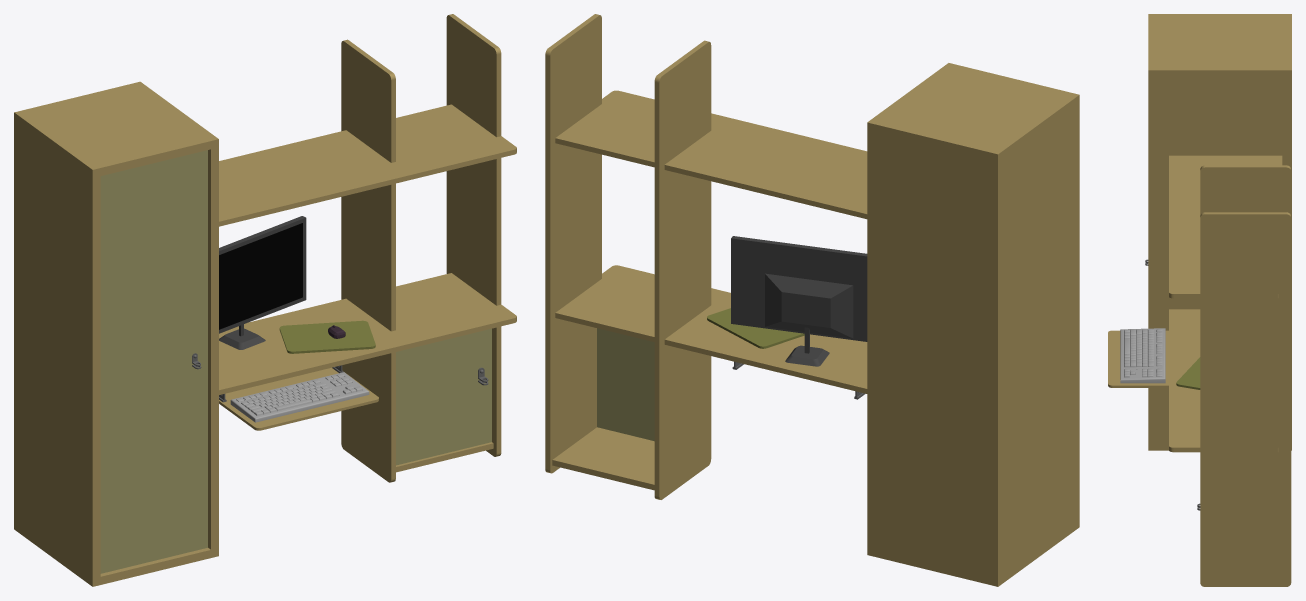
Rendered from desk.fbx.
3 renders of one model, left to right at view 1: azimuth 30°, elevation 25°; view 2: azimuth 150°, elevation 25°; view 3: azimuth 270°, elevation 25°, orthographic. The views are drawn at different scales.
Parts seen in each view (by area): view 1: 柜子, 桌面.002, 桌面.001, 桌面.003, 桌面, 平面, 电脑屏幕, 键盘, 鼠标垫, 键盘板, 立方体; view 2: 柜子, 桌面.002, 桌面.003, 桌面.001, 电脑屏幕, 桌面, 平面, 立方体, 鼠标垫; view 3: 桌面.003, 柜子, 桌面.001, 桌面, 桌面.002, 键盘, 键盘板, 鼠标垫.
Part boxes in pixels (x1,y1,x2,y2): 柜子: (14, 81, 218, 586); 桌面.002: (341, 39, 395, 482); 桌面.001: (219, 104, 516, 226); 桌面.003: (446, 14, 501, 456); 桌面: (219, 273, 516, 394); 平面: (396, 328, 491, 465); 电脑屏幕: (219, 216, 306, 349); 键盘: (230, 372, 369, 422); 鼠标垫: (279, 320, 375, 353); 键盘板: (219, 367, 378, 430); 立方体: (396, 442, 493, 472); 柜子: (867, 63, 1079, 586); 桌面.002: (654, 40, 711, 499); 桌面.003: (545, 14, 601, 473); 桌面.001: (555, 90, 867, 219); 电脑屏幕: (731, 236, 867, 366); 桌面: (555, 265, 867, 393); 平面: (597, 328, 654, 441); 立方体: (552, 427, 654, 490); 鼠标垫: (707, 308, 804, 348); 桌面.003: (1200, 212, 1291, 586); 柜子: (1148, 14, 1291, 450); 桌面.001: (1169, 155, 1282, 298); 桌面: (1169, 309, 1278, 452); 桌面.002: (1200, 165, 1291, 215); 键盘: (1120, 328, 1165, 383); 键盘板: (1108, 330, 1168, 387); 鼠标垫: (1176, 357, 1200, 389).
Bounding box in the file's own units: 451 × 1130 × 1030.
